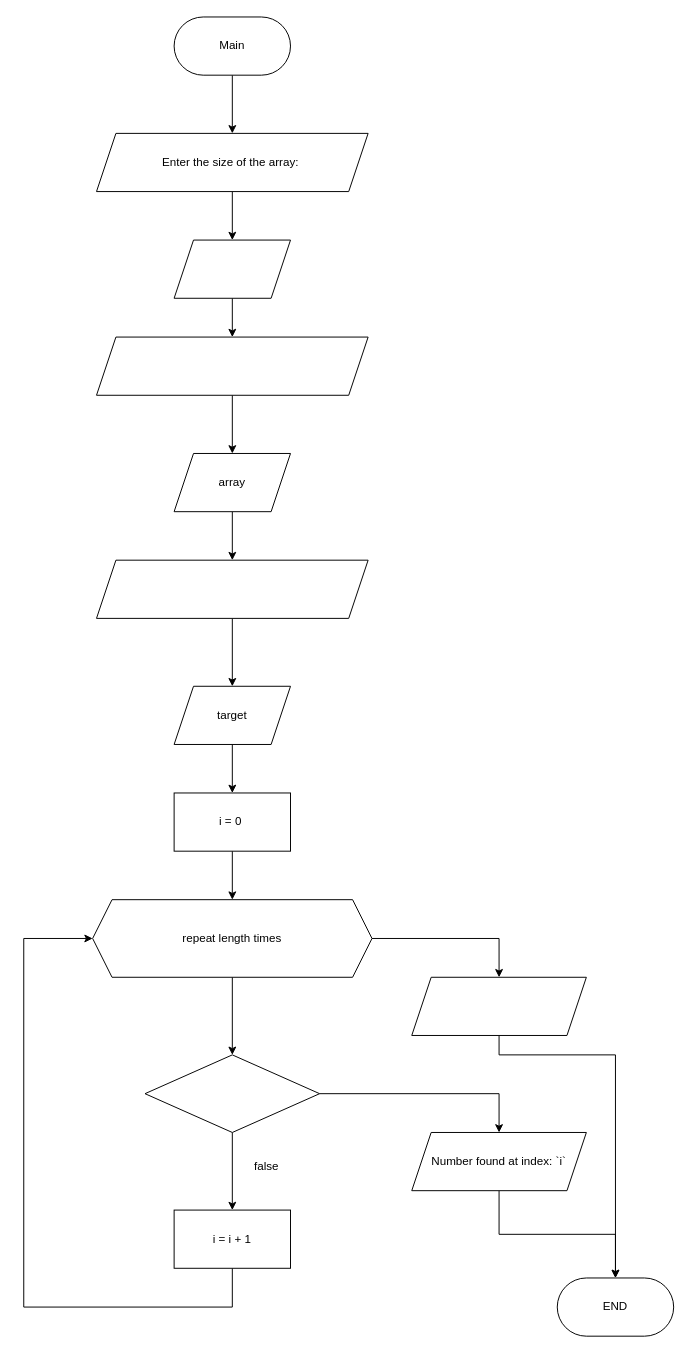
This 691x1353 diagram has some shape labels left out. Each missing label, with the centre of its shape:
"array[i] == target" belongs at (x=232, y=1093).
"Enter the elements of the array:" belongs at (x=232, y=365).
"Enter the number to search for:" belongs at (x=232, y=588).
"length" belongs at (x=232, y=268).
"Number not found in the array" belongs at (x=498, y=1005).
